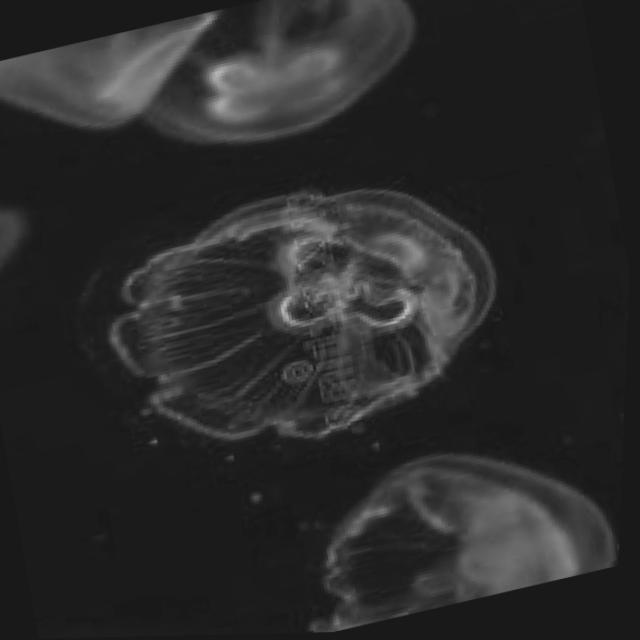Moon-jellyfish: (77, 149, 526, 484), (276, 415, 628, 635)
